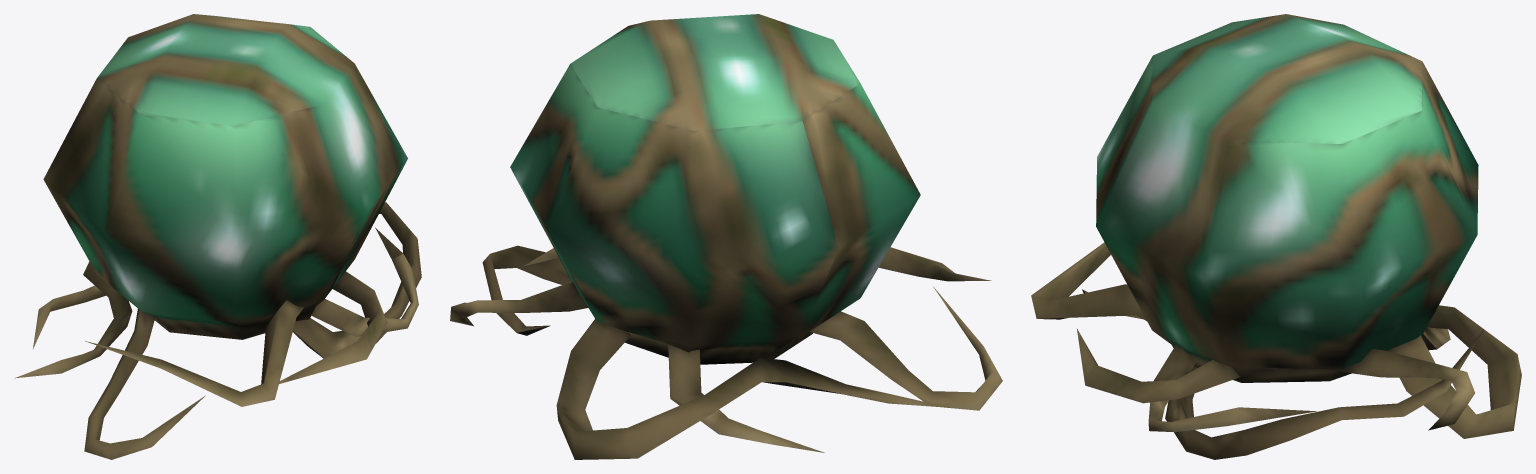
File: Orb 2.fbx
The picture shows the model from 3 angles, left to right: view 1: azimuth 30°, elevation 25°; view 2: azimuth 150°, elevation 25°; view 3: azimuth 270°, elevation 25°; orthographic projection. The views are drawn at different scales.
Visible parts, largest first — view 1: OrganicCrystalBall; view 2: OrganicCrystalBall; view 3: OrganicCrystalBall.
Part boxes in pixels (x1=…): OrganicCrystalBall: x1=15, y1=14, x2=421, y2=459; OrganicCrystalBall: x1=450, y1=14, x2=1002, y2=459; OrganicCrystalBall: x1=1031, y1=14, x2=1521, y2=459.
Bounding box in the file's own units: 0.5166 × 0.4008 × 0.4696.
